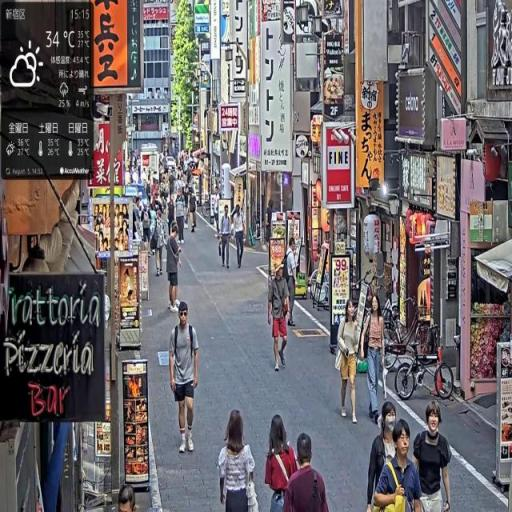person: (373, 418, 427, 511), (170, 303, 201, 456), (412, 398, 453, 512), (218, 410, 259, 512), (366, 400, 400, 512), (284, 431, 331, 512), (361, 293, 388, 427), (264, 414, 300, 512), (335, 300, 362, 428), (267, 260, 293, 374), (167, 223, 184, 314), (150, 204, 169, 280), (285, 236, 300, 328), (232, 199, 248, 271), (219, 203, 234, 274), (176, 189, 188, 247), (190, 190, 199, 233)
